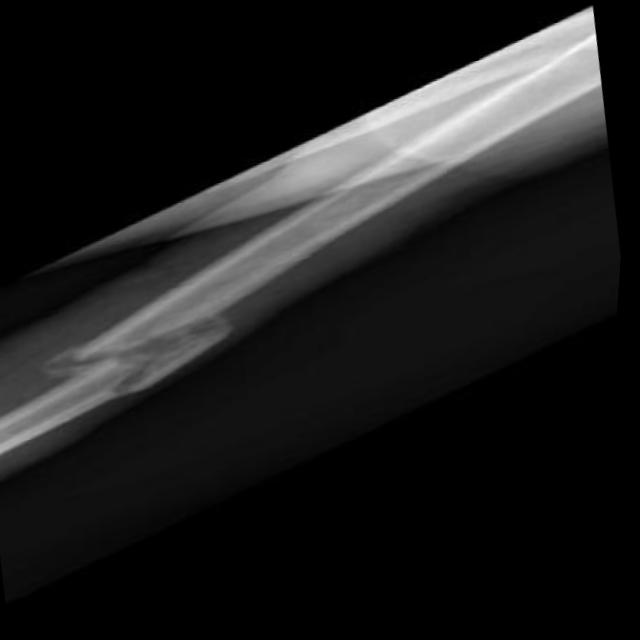fracture: (34, 303, 259, 419)
